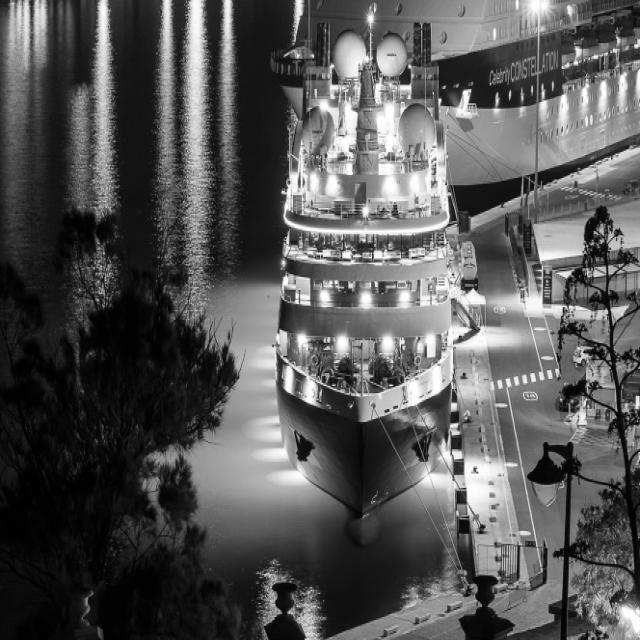cruises: (274, 17, 464, 530)
